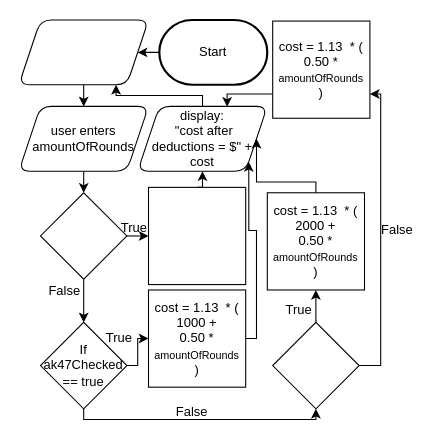
Some shapes in this 443 by 447 pixel diagram are drawn without their labels. The centre of each missing label's shape, as x and y in pixels:
cost = 1.13 * ( 500 + 0.50 * amountOfRounds ): the point at 196,235
If ak12Checked == true: the point at 83,235
If ak74Checked == true: the point at 315,365
user checks a radio button: AK-12, AK-47, AK-74, or None.: the point at 83,52
